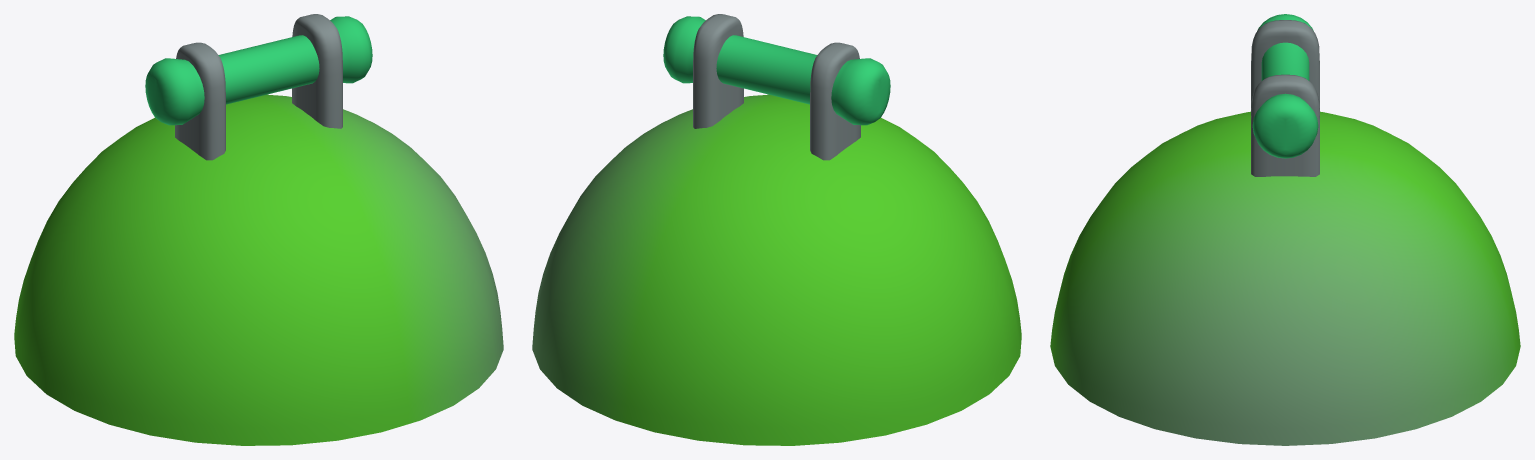
File: BBQ.fbx
3 renders of one model, left to right at view 1: azimuth 30°, elevation 25°; view 2: azimuth 150°, elevation 25°; view 3: azimuth 270°, elevation 25°, orthographic. The views are drawn at different scales.
Parts seen in each view (by area): view 1: BBQ; view 2: BBQ; view 3: BBQ.
Boxes of the visible parts, <box> form: BBQ: <box>14,14,503,445</box>; BBQ: <box>532,14,1021,445</box>; BBQ: <box>1050,14,1520,445</box>.
Bounding box in the file's own units: 74.88 × 52.09 × 74.88.
